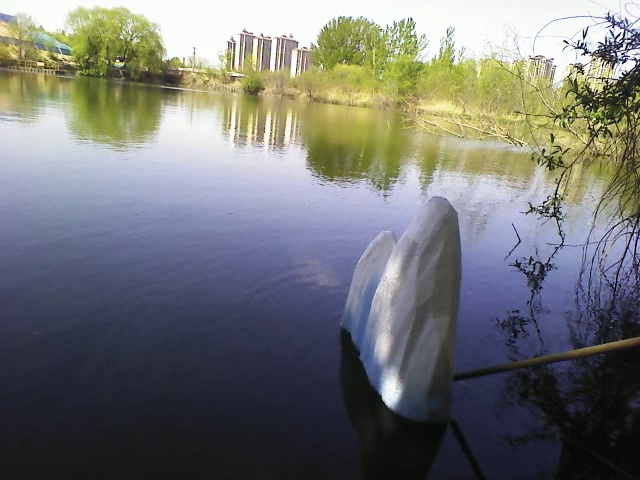iceberg: (337, 193, 465, 426)
